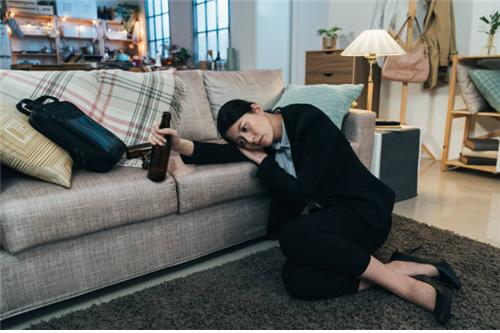alcohol: (145, 113, 173, 182)
